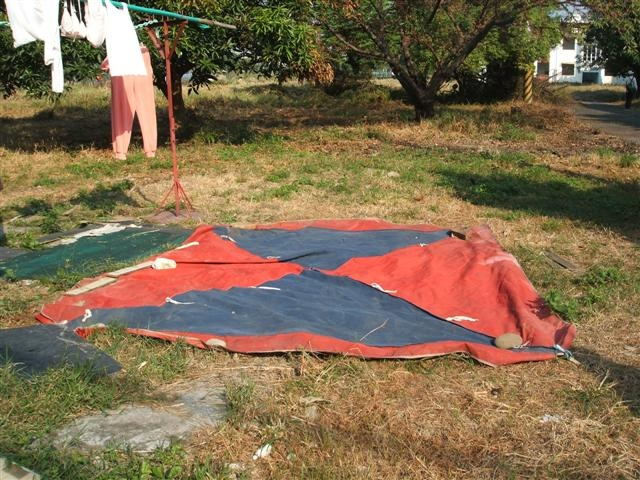plastic_bag: (1, 217, 583, 383)
